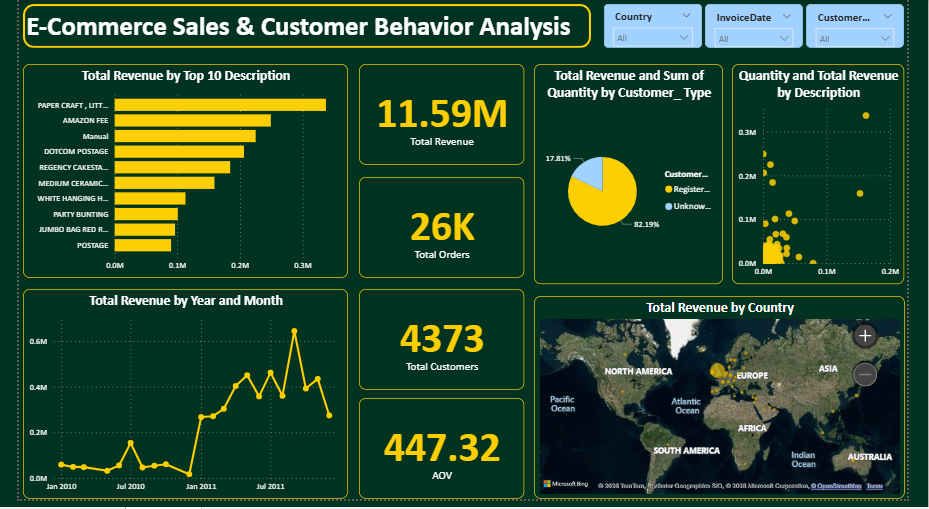

What the dashboard file says about the page in this screenshot:
{"tool":"powerbi","page":{"name":"Page 1","canvas":[1280,720],"ordinal":0},"visuals":[{"type":"shape","box":[5.8,7.2,817.9,63.4],"z":0},{"type":"slicer","fields":{"Values":["Cleaned Data.Country"]},"box":[842.4,7.2,141.1,63.4],"z":1000},{"type":"slicer","fields":{"Values":["Cleaned Data.InvoiceDate"]},"box":[987.8,7.2,141.1,63.4],"z":2000},{"type":"slicer","fields":{"Values":["Cleaned Data.Customer_ Type"]},"box":[1133.3,7.2,141.1,63.4],"z":3000},{"type":"lineChart","fields":{"Y":["Cleaned Data.Total Revenue"],"Category":["Cleaned Data.InvoiceDate.Variation.Date Hierarchy.Year","Cleaned Data.InvoiceDate.Variation.Date Hierarchy.Month"]},"box":[5.8,417.6,468,302.4],"z":4000},{"type":"barChart","title":"Total Revenue by Top 10 Description","fields":{"Y":["Cleaned Data.Total Revenue"],"Category":["Cleaned Data.Description"]},"box":[5.8,93.6,468,308.2],"z":5000},{"type":"map","fields":{"Category":["Cleaned Data.Country"],"Size":["Cleaned Data.Total Revenue"]},"box":[741.6,427.7,534.2,292.3],"z":6000},{"type":"scatterChart","fields":{"X":["Sum(Cleaned Data.Quantity)"],"Y":["Cleaned Data.Total Revenue"],"Category":["Cleaned Data.Description"]},"box":[1026.7,93.6,247.7,316.8],"z":8000},{"type":"card","fields":{"Values":["Cleaned Data.AOV"]},"box":[489.6,574.6,237.6,145.4],"z":9000},{"type":"card","fields":{"Values":["Cleaned Data.Total Customers"]},"box":[489.6,417.6,237.6,145.4],"z":10000},{"type":"card","fields":{"Values":["Cleaned Data.Total Revenue"]},"box":[489.6,93.6,237.6,145.4],"z":11000},{"type":"card","fields":{"Values":["Cleaned Data.Total Orders"]},"box":[489.6,256.3,237.6,145.4],"z":12000},{"type":"donutChart","fields":{"Category":["Cleaned Data.Customer_ Type"],"Y":["Cleaned Data.Total Revenue"]},"box":[741.6,93.6,272.2,316.8],"z":12500}]}

Visuals, with their boxes in screenshot pixels (x1, y1, x2, y2), scaled from the page's 1280x720 canvas onto the 929x509 screenshot:
shape: Rect(4, 5, 598, 50)
slicer - Cleaned Data.Country: Rect(611, 5, 714, 50)
slicer - Cleaned Data.InvoiceDate: Rect(717, 5, 819, 50)
slicer - Cleaned Data.Customer_ Type: Rect(823, 5, 925, 50)
lineChart - Cleaned Data.Total Revenue x Cleaned Data.InvoiceDate.Variation.Date Hierarchy.Year: Rect(4, 295, 344, 508)
"Total Revenue by Top 10 Description" barChart: Rect(4, 66, 344, 284)
map - Cleaned Data.Country x Cleaned Data.Total Revenue: Rect(538, 302, 926, 508)
scatterChart - Sum(Cleaned Data.Quantity) x Cleaned Data.Total Revenue: Rect(745, 66, 925, 290)
card - Cleaned Data.AOV: Rect(355, 406, 528, 508)
card - Cleaned Data.Total Customers: Rect(355, 295, 528, 398)
card - Cleaned Data.Total Revenue: Rect(355, 66, 528, 169)
card - Cleaned Data.Total Orders: Rect(355, 181, 528, 284)
donutChart - Cleaned Data.Customer_ Type x Cleaned Data.Total Revenue: Rect(538, 66, 736, 290)
